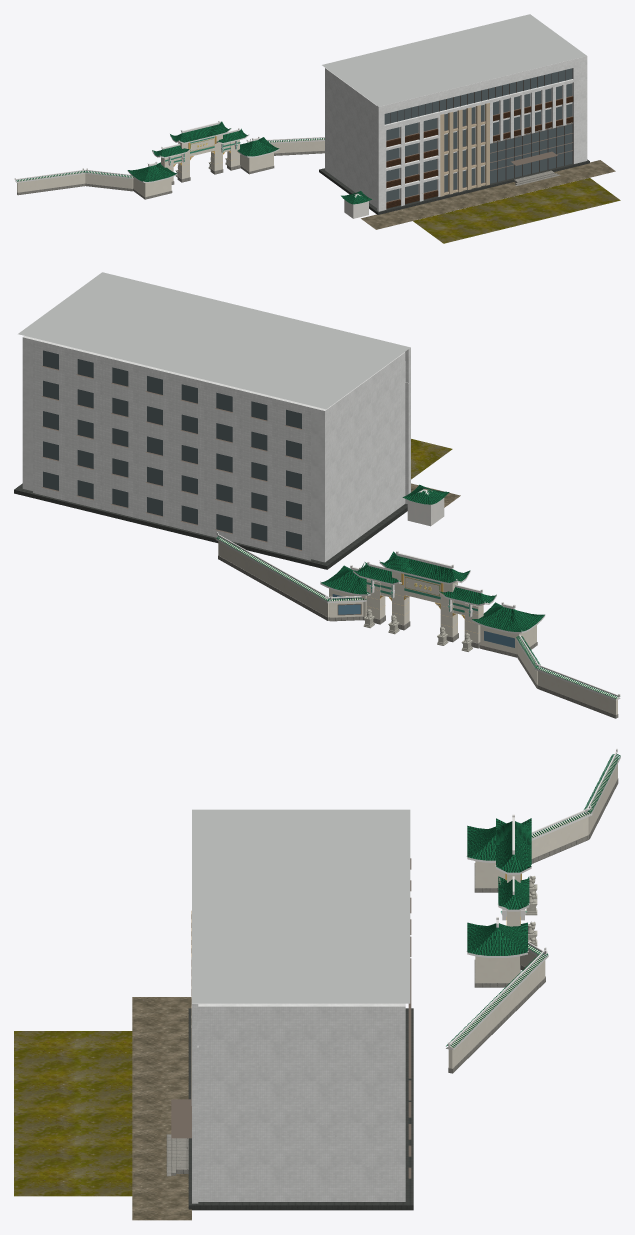
Rendered from r2_heroes_north_lod1.glb.
The picture shows the model from 3 angles, top to bottom: view 1: azimuth 30°, elevation 25°; view 2: azimuth 150°, elevation 25°; view 3: azimuth 270°, elevation 25°; orthographic projection. The views are drawn at different scales.
Parts seen in each view (by area): view 1: keji_science_tech_r2.001, beimen_north_gate_r2.001; view 2: keji_science_tech_r2.001, beimen_north_gate_r2.001; view 3: keji_science_tech_r2.001, beimen_north_gate_r2.001.
Part boxes in pixels (x1=…): keji_science_tech_r2.001: x1=319, y1=14, x2=620, y2=243; beimen_north_gate_r2.001: x1=14, y1=121, x2=324, y2=199; keji_science_tech_r2.001: x1=14, y1=272, x2=460, y2=569; beimen_north_gate_r2.001: x1=215, y1=532, x2=620, y2=718; keji_science_tech_r2.001: x1=14, y1=809, x2=413, y2=1220; beimen_north_gate_r2.001: x1=446, y1=748, x2=620, y2=1073.
Size of the model in its own units: 91.07 by 19.81 by 52.84.
Materials: 21 (11 with a texture image).
